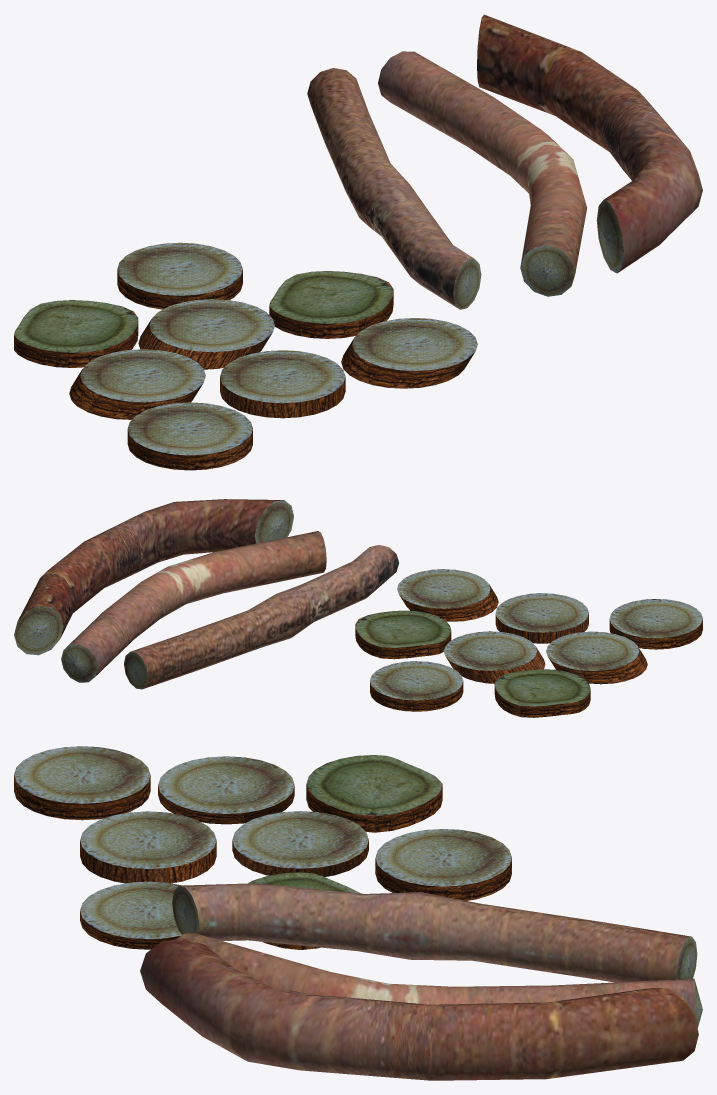
Rendered from gancao.FBX.
3 views of the same model, one above another, from view 1: azimuth 30°, elevation 25°; view 2: azimuth 150°, elevation 25°; view 3: azimuth 270°, elevation 25° (orthographic). The views are drawn at different scales.
Parts seen in each view (by area): view 1: Cylinder009, Cylinder010, Cylinder011, Cylinder002, Cylinder007, Cylinder001, Cylinder005, Cylinder003, Cylinder008, Cylinder004, Cylinder006; view 2: Cylinder009, Cylinder010, Cylinder011, Cylinder002, Cylinder005, Cylinder006, Cylinder008, Cylinder003, Cylinder007, Cylinder004, Cylinder001; view 3: Cylinder009, Cylinder011, Cylinder010, Cylinder007, Cylinder001, Cylinder008, Cylinder006, Cylinder005, Cylinder004, Cylinder002, Cylinder003.
Boxes of the visible parts, x1,y1,x2,y2 form: Cylinder009: [477, 14, 702, 273]; Cylinder010: [378, 51, 586, 296]; Cylinder011: [307, 68, 481, 309]; Cylinder002: [341, 318, 477, 388]; Cylinder007: [127, 402, 252, 470]; Cylinder001: [220, 350, 345, 418]; Cylinder005: [69, 349, 205, 419]; Cylinder003: [269, 271, 393, 338]; Cylinder008: [14, 300, 138, 367]; Cylinder004: [138, 299, 274, 369]; Cylinder006: [117, 242, 242, 309]; Cylinder009: [14, 499, 293, 655]; Cylinder010: [61, 531, 326, 682]; Cylinder011: [124, 545, 398, 689]; Cylinder002: [397, 569, 498, 621]; Cylinder005: [546, 631, 647, 684]; Cylinder006: [370, 661, 463, 711]; Cylinder008: [494, 669, 590, 717]; Cylinder003: [355, 610, 451, 659]; Cylinder007: [609, 599, 702, 649]; Cylinder004: [444, 631, 545, 683]; Cylinder001: [495, 593, 588, 643]; Cylinder009: [140, 938, 698, 1080]; Cylinder011: [172, 883, 697, 982]; Cylinder010: [177, 933, 702, 1027]; Cylinder007: [14, 746, 150, 820]; Cylinder001: [80, 811, 216, 883]; Cylinder008: [306, 755, 442, 832]; Cylinder006: [375, 829, 511, 900]; Cylinder005: [158, 756, 294, 824]; Cylinder004: [232, 811, 368, 876]; Cylinder002: [80, 881, 182, 949]; Cylinder003: [248, 872, 360, 949].
Size of the model in its own units: 54.74 by 7.17 by 44.5.
